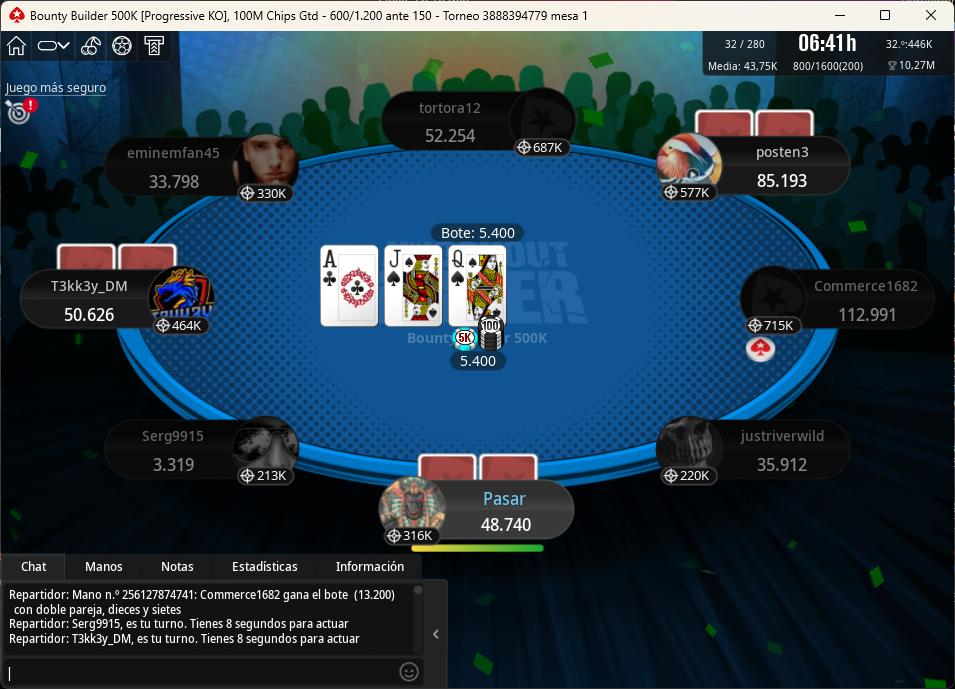HiddenCards: (416, 452, 541, 482), (694, 110, 815, 140), (52, 244, 178, 272)
Player: (105, 416, 303, 485), (107, 131, 301, 201), (653, 417, 851, 485), (21, 267, 218, 335), (741, 267, 944, 332), (655, 133, 850, 200), (379, 91, 576, 156)
PlayerChips: (831, 305, 901, 325), (751, 453, 816, 474), (753, 171, 815, 192), (60, 305, 122, 325), (417, 125, 481, 144), (143, 173, 205, 192), (147, 453, 201, 474), (476, 517, 537, 535)
Pot: (433, 220, 522, 244)
PrincipalPlayer: (374, 475, 576, 544)
ShowedCards: (319, 250, 504, 331)
ShowedCards1: (319, 245, 384, 332)
ShowedCards2: (383, 246, 447, 330)
ShowedCards3: (446, 246, 511, 332)
SmallBigBlind: (320, 3, 444, 29)
TablePot: (408, 326, 523, 383)
